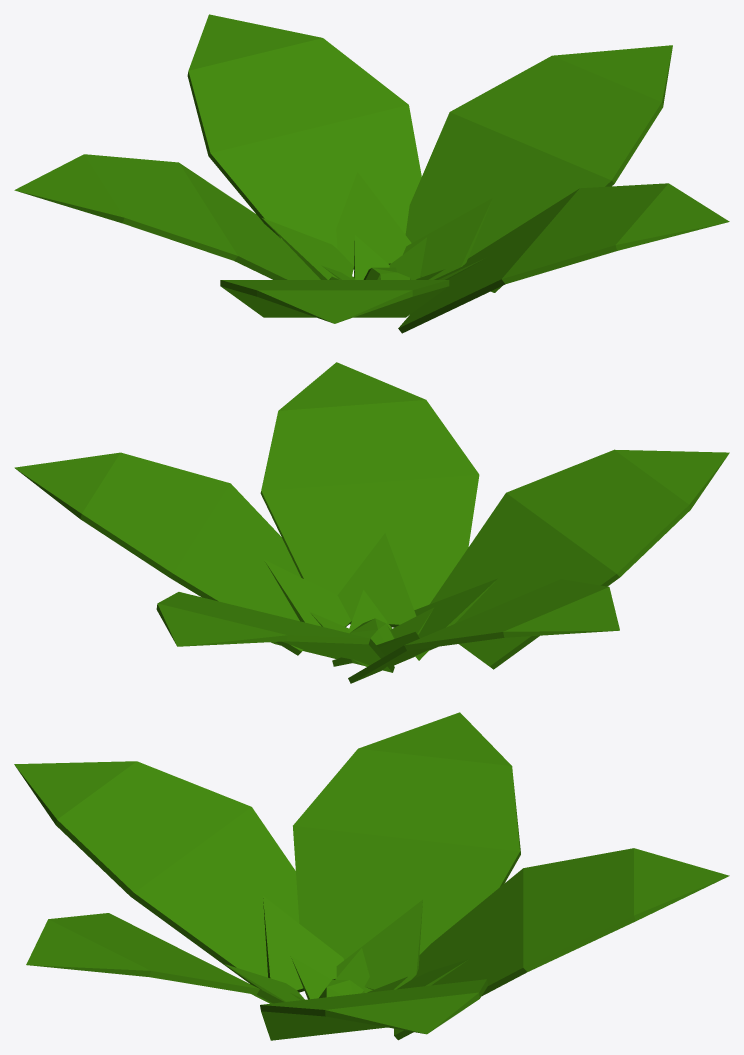
Rendered from Plant_a_03.fbx.
The picture shows the model from 3 angles, top to bottom: view 1: azimuth 30°, elevation 25°; view 2: azimuth 150°, elevation 25°; view 3: azimuth 270°, elevation 25°; orthographic projection. The views are drawn at different scales.
Parts seen in each view (by area): view 1: Plant_a_03_LOD0; view 2: Plant_a_03_LOD0; view 3: Plant_a_03_LOD0.
Part boxes in pixels (x1,y1,x2,y2): Plant_a_03_LOD0: (14,14,729,333); Plant_a_03_LOD0: (14,362,729,683); Plant_a_03_LOD0: (14,712,729,1040).
Size of what is drawn, in the model's own units: 22.8 by 4.53 by 21.41.
